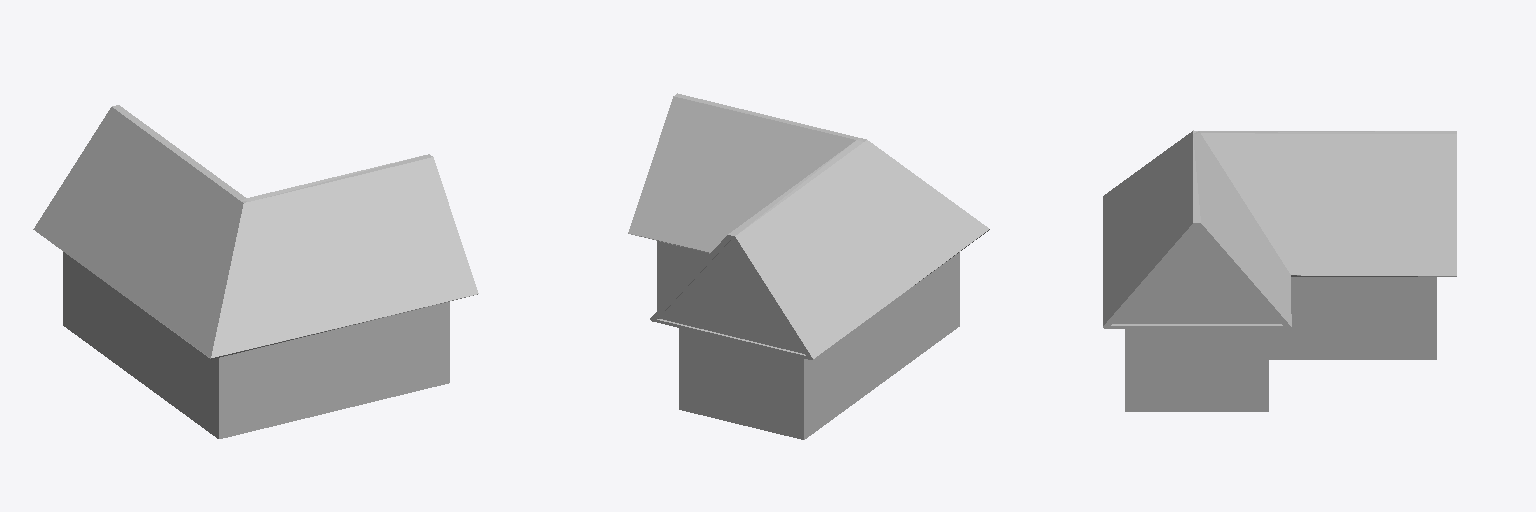
File: House 3.obj
3 renders of one model, left to right at view 1: azimuth 30°, elevation 25°; view 2: azimuth 150°, elevation 25°; view 3: azimuth 270°, elevation 25°, orthographic.
Parts seen in each view (by area): view 1: House_40; view 2: House_40; view 3: House_40.
Part boxes in pixels (left/top/right/bottom): House_40: left=33, top=105, right=478, bottom=438; House_40: left=628, top=93, right=989, bottom=439; House_40: left=1103, top=130, right=1456, bottom=411.
Bounding box in the file's own units: 668 × 471 × 766.